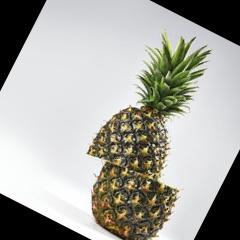Pineapple: (89, 27, 211, 239)
